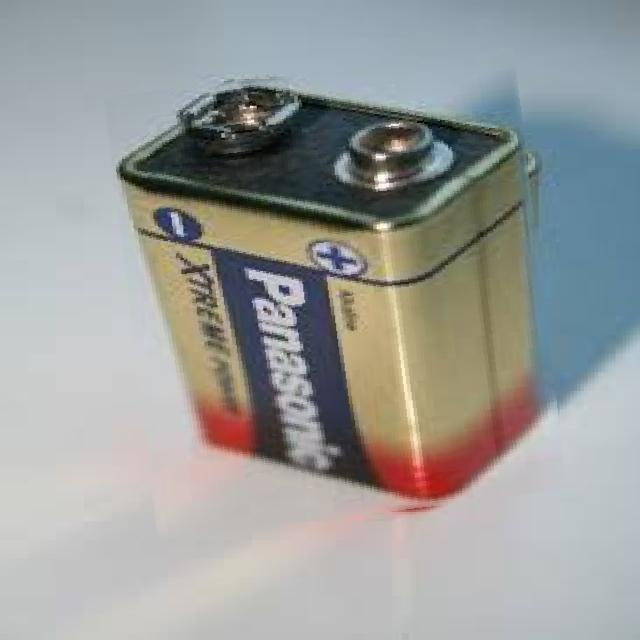Battery: (86, 38, 628, 590)
